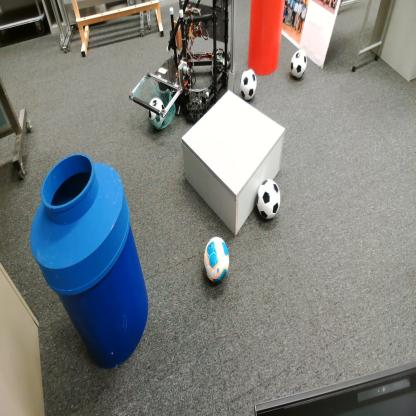ball: (204, 236, 229, 284), (256, 178, 281, 222), (289, 48, 308, 80), (148, 97, 166, 130), (240, 69, 257, 101)
